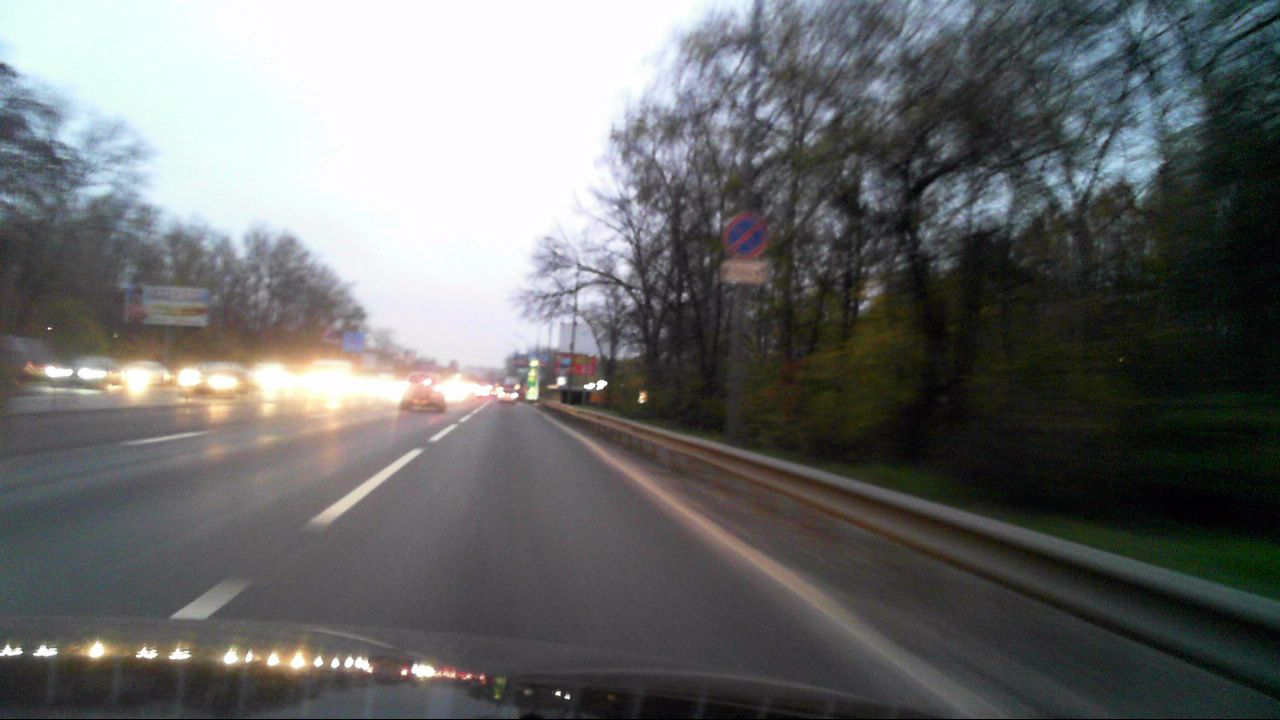No Parking: (724, 212, 771, 258)
